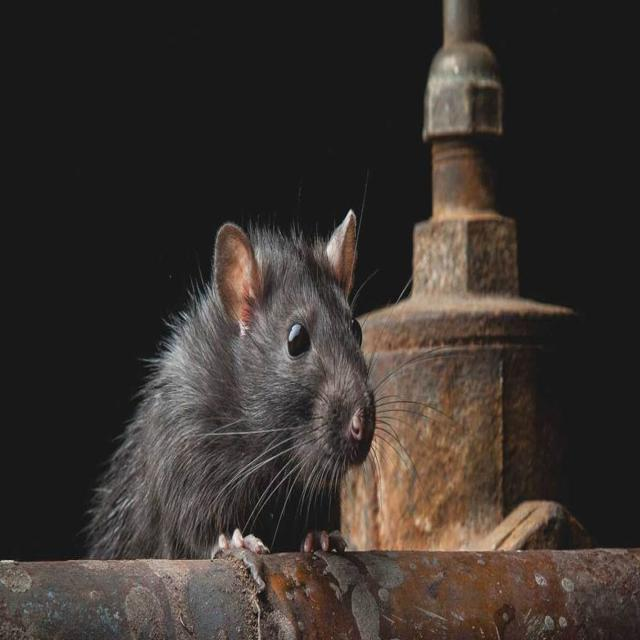rat: (87, 202, 380, 562)
